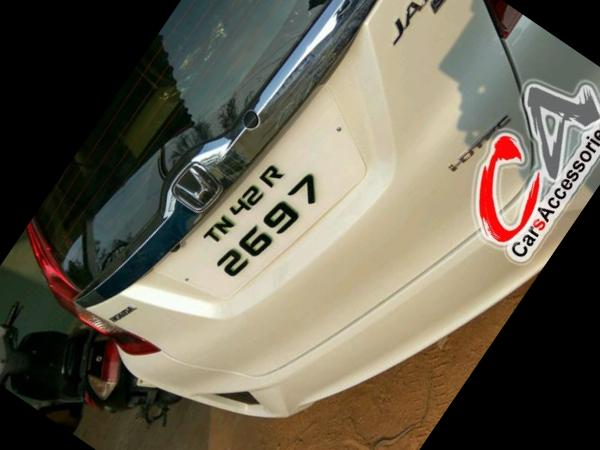plate: (131, 53, 394, 353)
